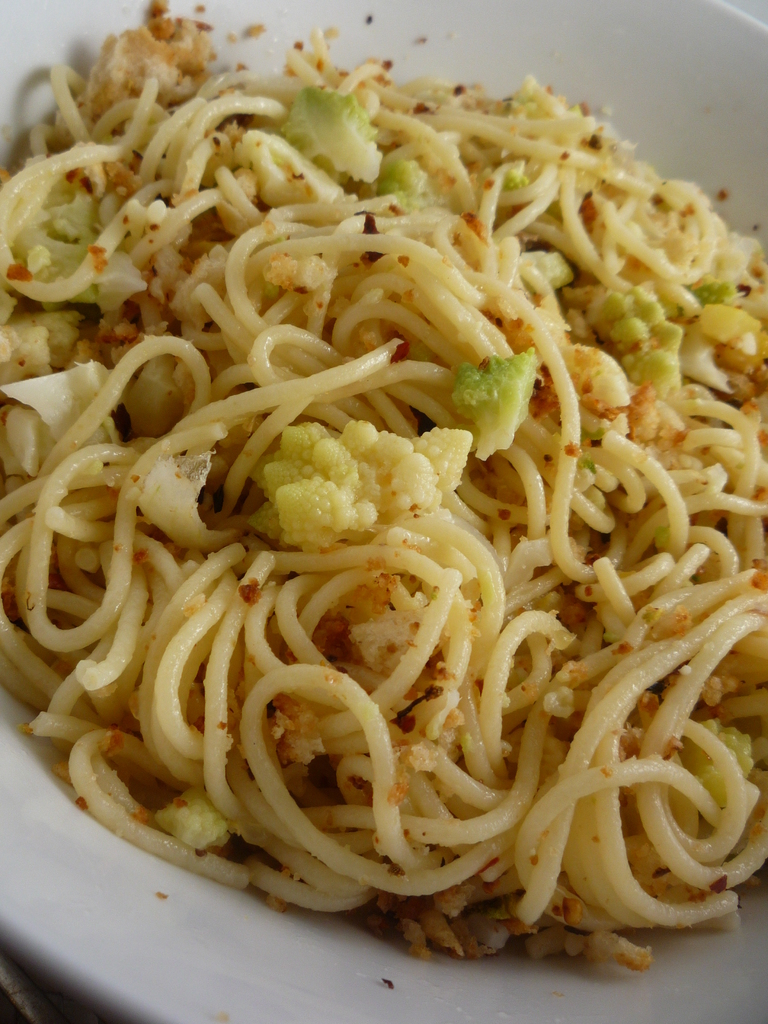pasta: (4, 16, 768, 975)
